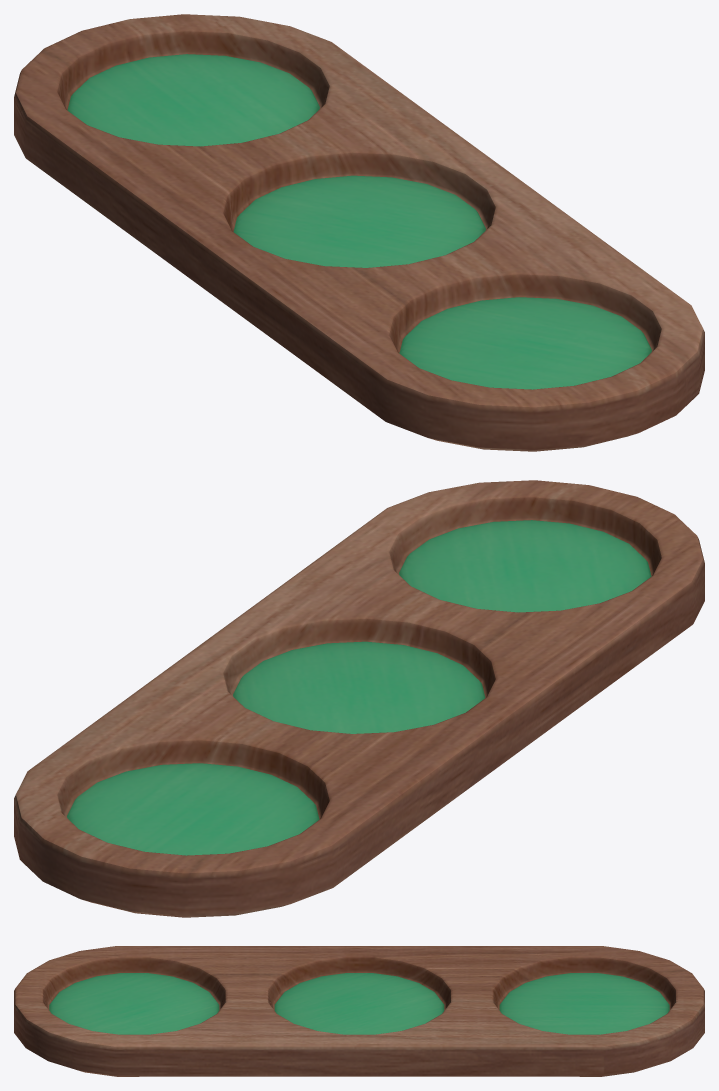
File: YutNori_BoxGreen.fbx
3 renders of one model, top to bottom at view 1: azimuth 30°, elevation 25°; view 2: azimuth 150°, elevation 25°; view 3: azimuth 270°, elevation 25°, orthographic. The views are drawn at different scales.
Visible parts, largest first — view 1: YutNori_BoxGreen; view 2: YutNori_BoxGreen; view 3: YutNori_BoxGreen.
Boxes of the visible parts, x1=… form: YutNori_BoxGreen: x1=14, y1=14, x2=704, y2=451; YutNori_BoxGreen: x1=14, y1=480, x2=704, y2=917; YutNori_BoxGreen: x1=14, y1=946, x2=704, y2=1076.
Bounding box in the file's own units: 3.98 × 0.6524 × 11.43.
